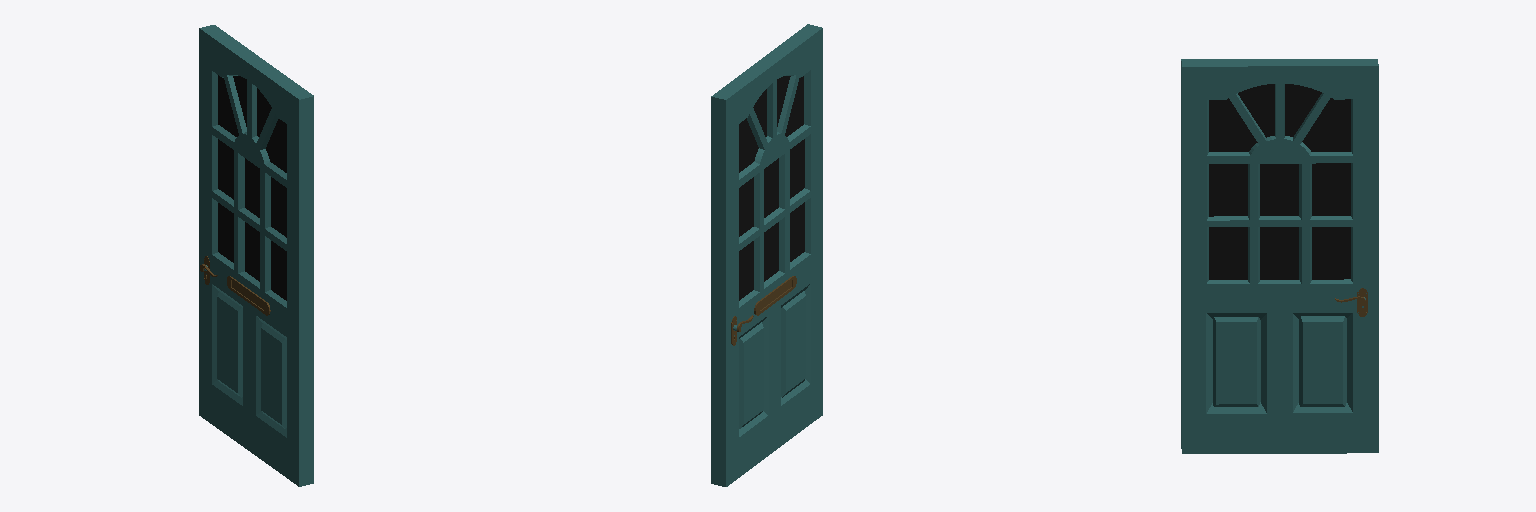
Rendered from door_000002.obj.
The picture shows the model from 3 angles: view 1: azimuth 30°, elevation 25°; view 2: azimuth 150°, elevation 25°; view 3: azimuth 270°, elevation 25°; orthographic projection.
Visible parts, largest first — view 1: Door.003; view 2: Door.003; view 3: Door.003.
Boxes of the visible parts, x1=… form: Door.003: x1=199, y1=25, x2=313, y2=486; Door.003: x1=711, y1=24, x2=822, y2=486; Door.003: x1=1181, y1=59, x2=1378, y2=453.
Size of the model in its own units: 0.1156 by 1.6 by 0.74.